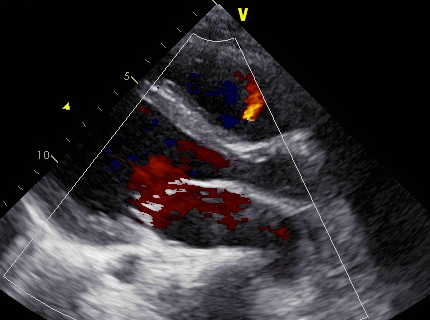AR: (137, 137, 241, 190)
